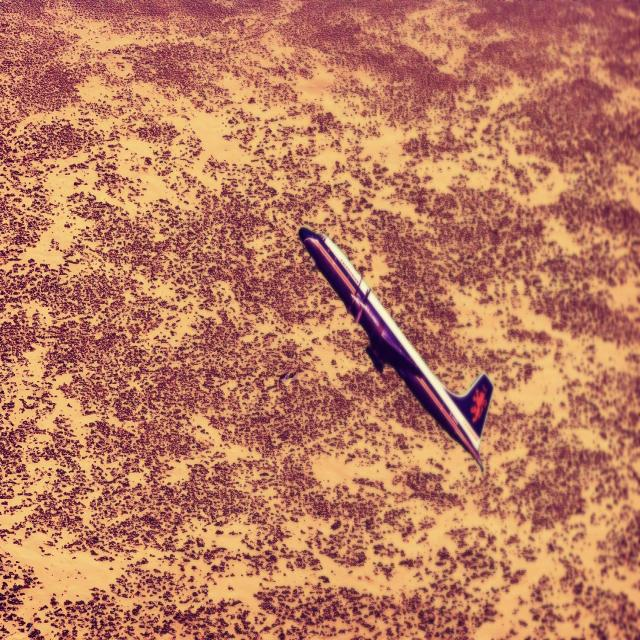airplane: (298, 224, 493, 473)
